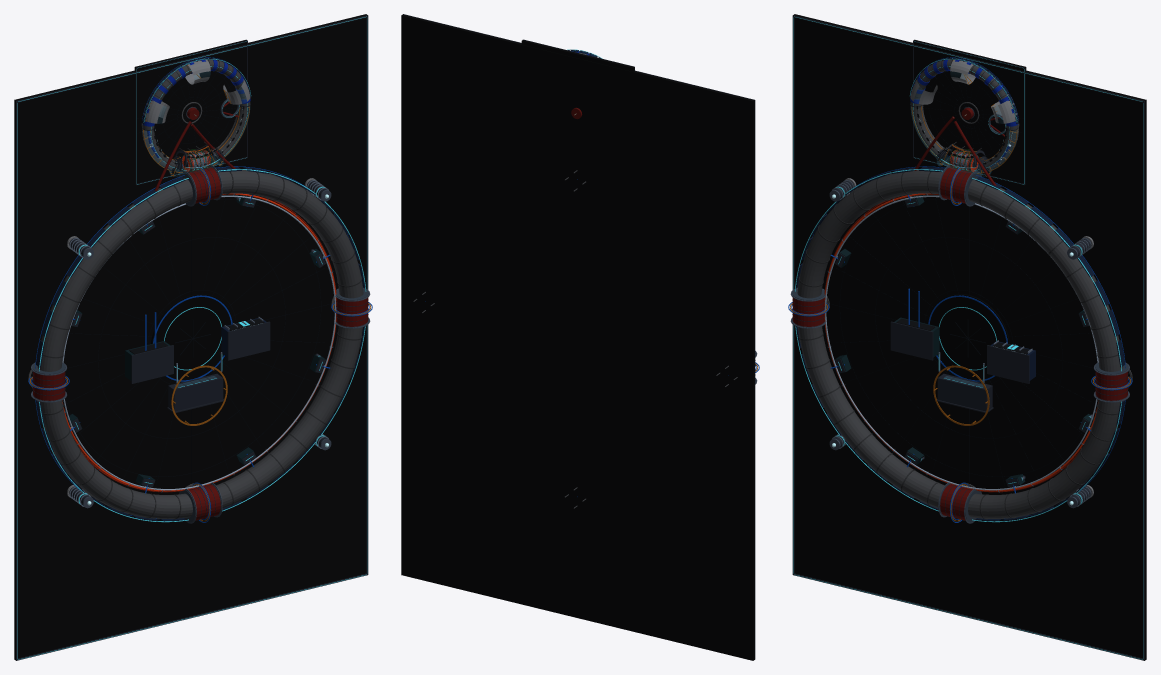
The model's file is lhc_combo.obj.
3 views of the same model, side by side, from view 1: azimuth 30°, elevation 25°; view 2: azimuth 150°, elevation 25°; view 3: azimuth 330°, elevation 25° (orthographic).
Parts seen in each view (by area): view 1: k_full_base, k_full_tube, k_bp, k_hub_plaza, k_full_br3, k_cryo_main1, k_obs_room, k_power_roof, k_cool_roof, k_full_br2, k_full_glow1, k_cryo_main0 (+9 smaller); view 2: k_full_base, k_bp, k_full_br2; view 3: k_full_base, k_full_tube, k_bp, k_hub_plaza, k_full_br2, k_cryo_main1, k_obs_room, k_cool_roof, k_power_roof, k_full_br3, k_full_glow1, k_cryo_main0 (+9 smaller).
Part boxes in pixels (x1=…): k_full_base: x1=14, y1=14, x2=367, y2=660; k_full_tube: x1=37, y1=170, x2=363, y2=518; k_bp: x1=134, y1=39, x2=247, y2=183; k_hub_plaza: x1=151, y1=294, x2=233, y2=382; k_full_br3: x1=366, y1=15, x2=368, y2=575; k_cryo_main1: x1=62, y1=195, x2=336, y2=490; k_obs_room: x1=168, y1=373, x2=223, y2=411; k_power_roof: x1=227, y1=321, x2=270, y2=360; k_cool_roof: x1=131, y1=345, x2=173, y2=383; k_full_br2: x1=16, y1=100, x2=17, y2=659; k_full_glow1: x1=39, y1=169, x2=366, y2=522; k_cryo_main0: x1=62, y1=193, x2=336, y2=491; k_full_base: x1=401, y1=14, x2=754, y2=660; k_bp: x1=521, y1=40, x2=634, y2=71; k_full_br2: x1=753, y1=99, x2=755, y2=657; k_full_base: x1=793, y1=14, x2=1146, y2=660; k_full_tube: x1=797, y1=170, x2=1123, y2=518; k_bp: x1=913, y1=39, x2=1026, y2=182; k_hub_plaza: x1=927, y1=294, x2=1009, y2=382; k_full_br2: x1=792, y1=15, x2=794, y2=575; k_cryo_main1: x1=824, y1=195, x2=1098, y2=490; k_obs_room: x1=937, y1=373, x2=992, y2=411; k_cool_roof: x1=890, y1=321, x2=933, y2=360; k_power_roof: x1=987, y1=345, x2=1029, y2=383; k_full_br3: x1=1143, y1=100, x2=1144, y2=659; k_full_glow1: x1=794, y1=169, x2=1121, y2=522; k_cryo_main0: x1=824, y1=193, x2=1098, y2=491.
Size of the model in its own units: 79 by 121 by 9.38.
